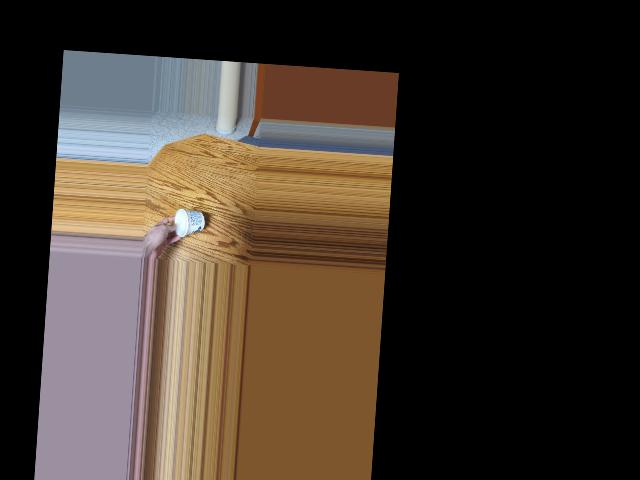cotage: (176, 202, 209, 234)
